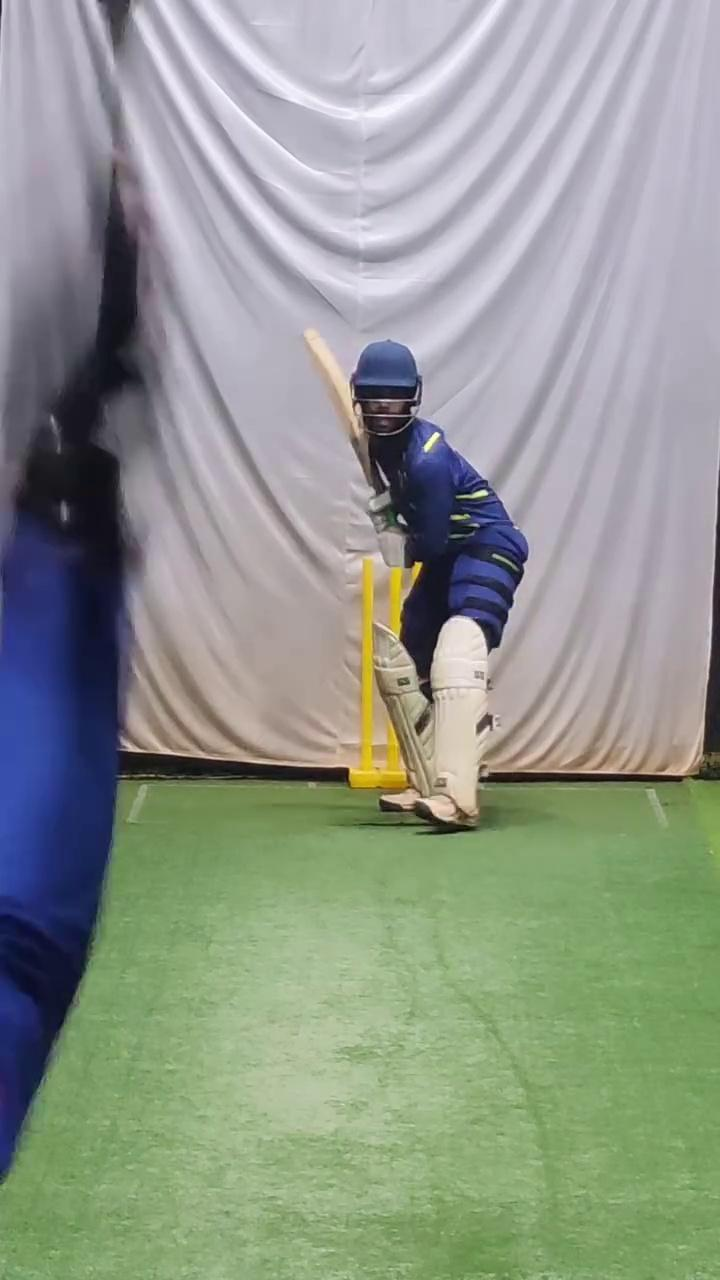bat: (298, 322, 383, 493)
